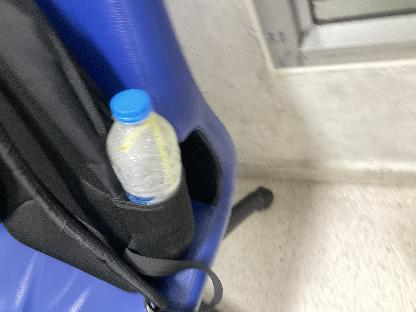Plastic Bottle: (106, 86, 184, 208)
